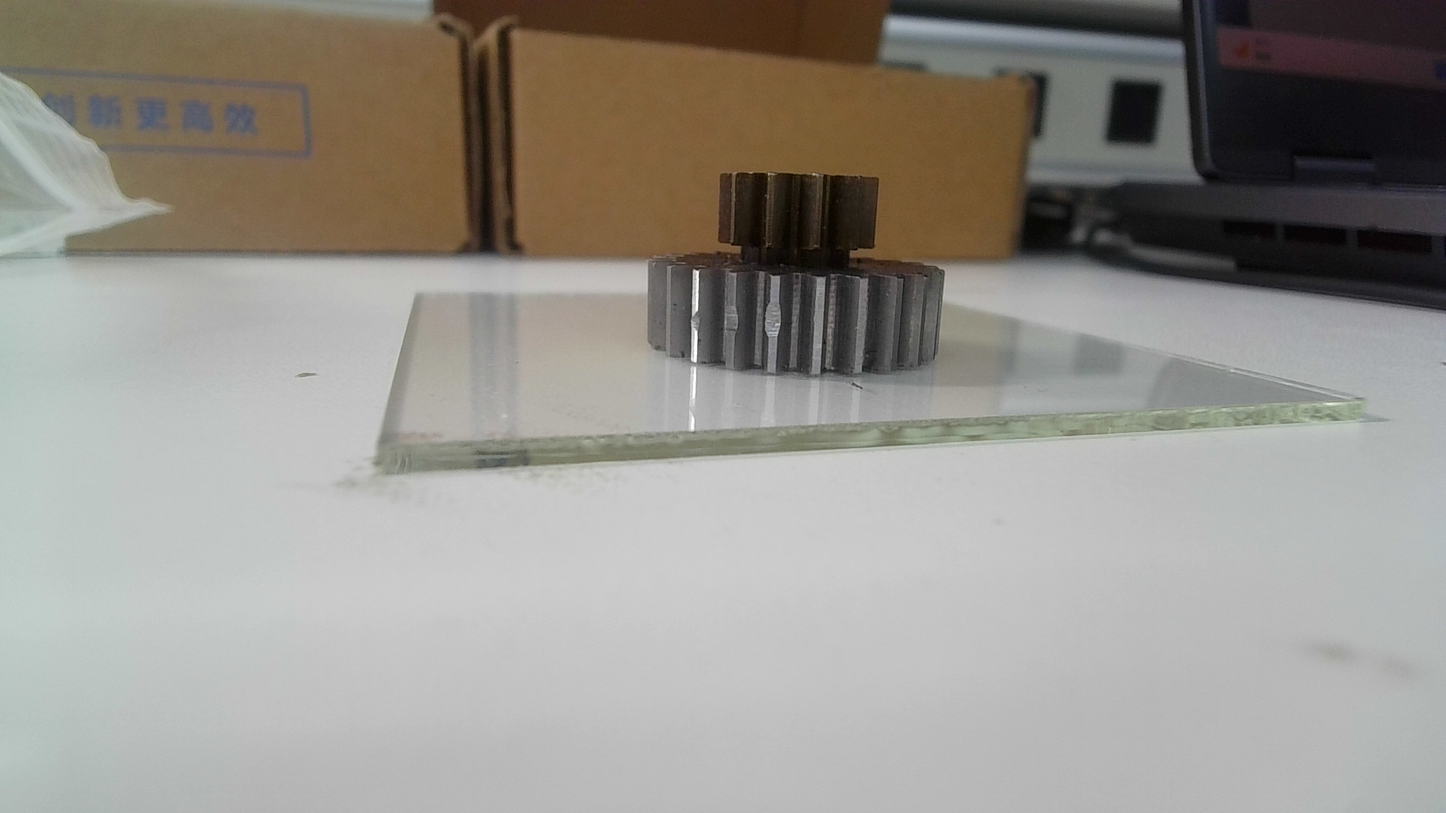gear: (649, 165, 953, 373)
